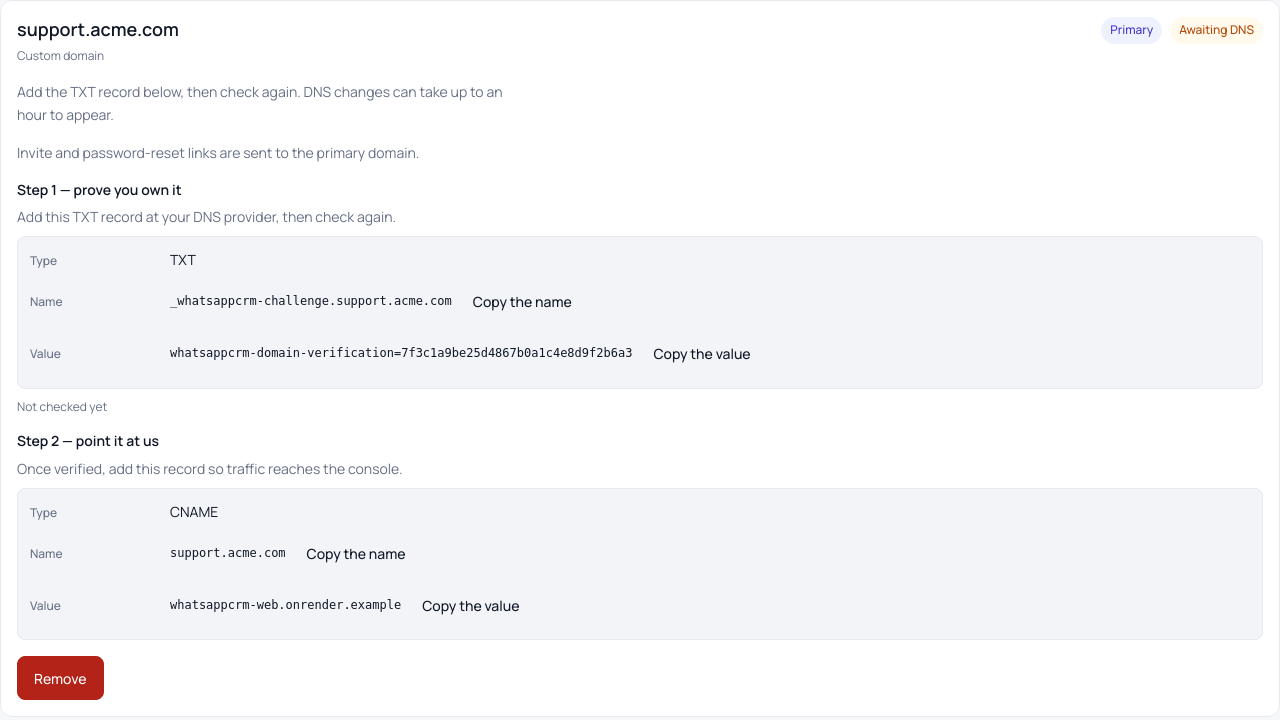
Test: DomainCard › warns that invite links move when the primary domain is removed
The image size is (1280, 720).
Step 1. Click the button "Remove" → click(60, 678), box [17,656,104,700]
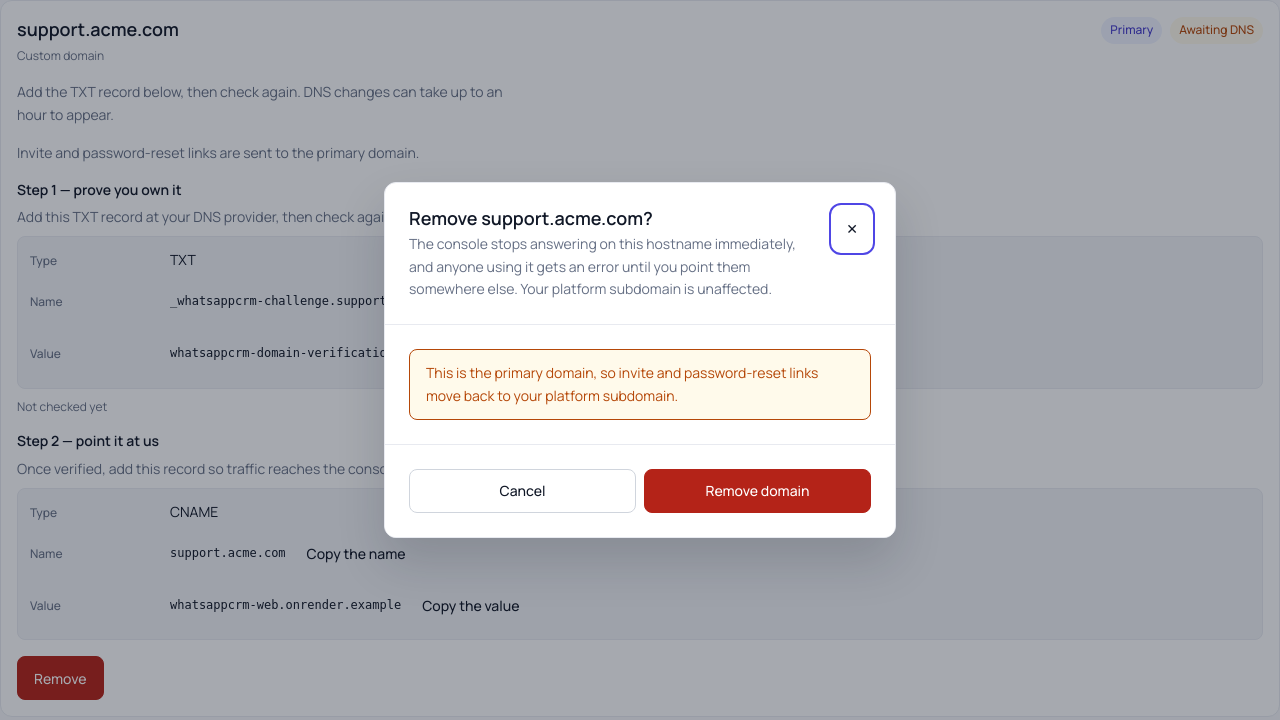
Result: the text "This is the primary domain, so invite and password-reset links move back to your platform subdomain." is shown at [426,363,818,405]
